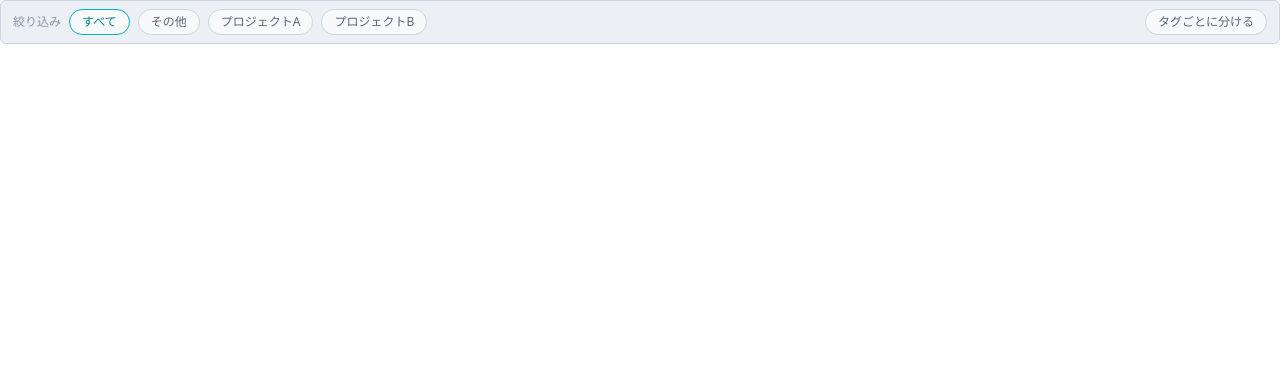
Test: NoteList › 複数のタグを選ぶと、どれかに一致するページが残る
Click the button "プロジェクトA" at (261, 22), box [208, 9, 313, 35]
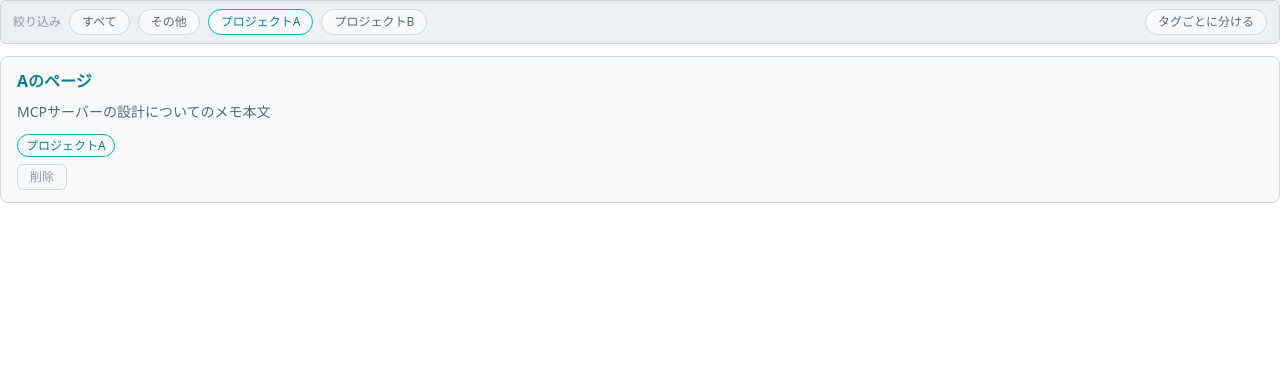
Click the button "プロジェクトB" at (374, 22), box [321, 9, 427, 35]
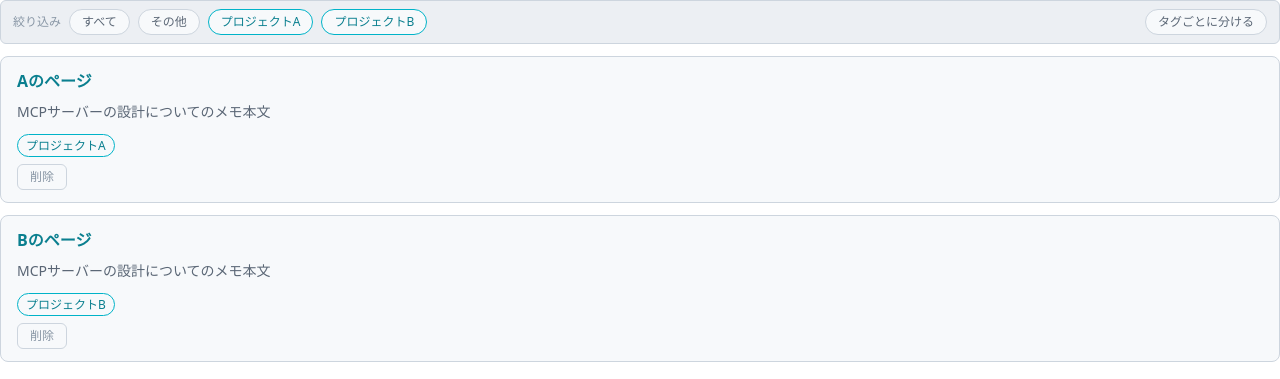
Result: the button "Aのページ" is shown at [17, 69, 92, 93]
Result: the button "Bのページ" is shown at [17, 228, 91, 252]
